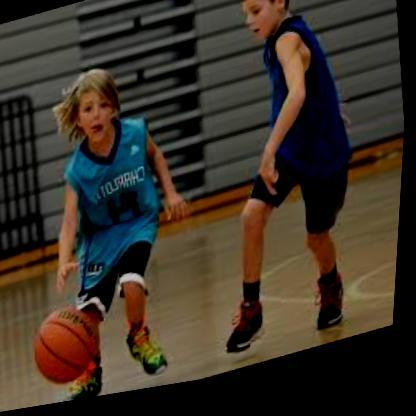basketball: (33, 303, 106, 393)
